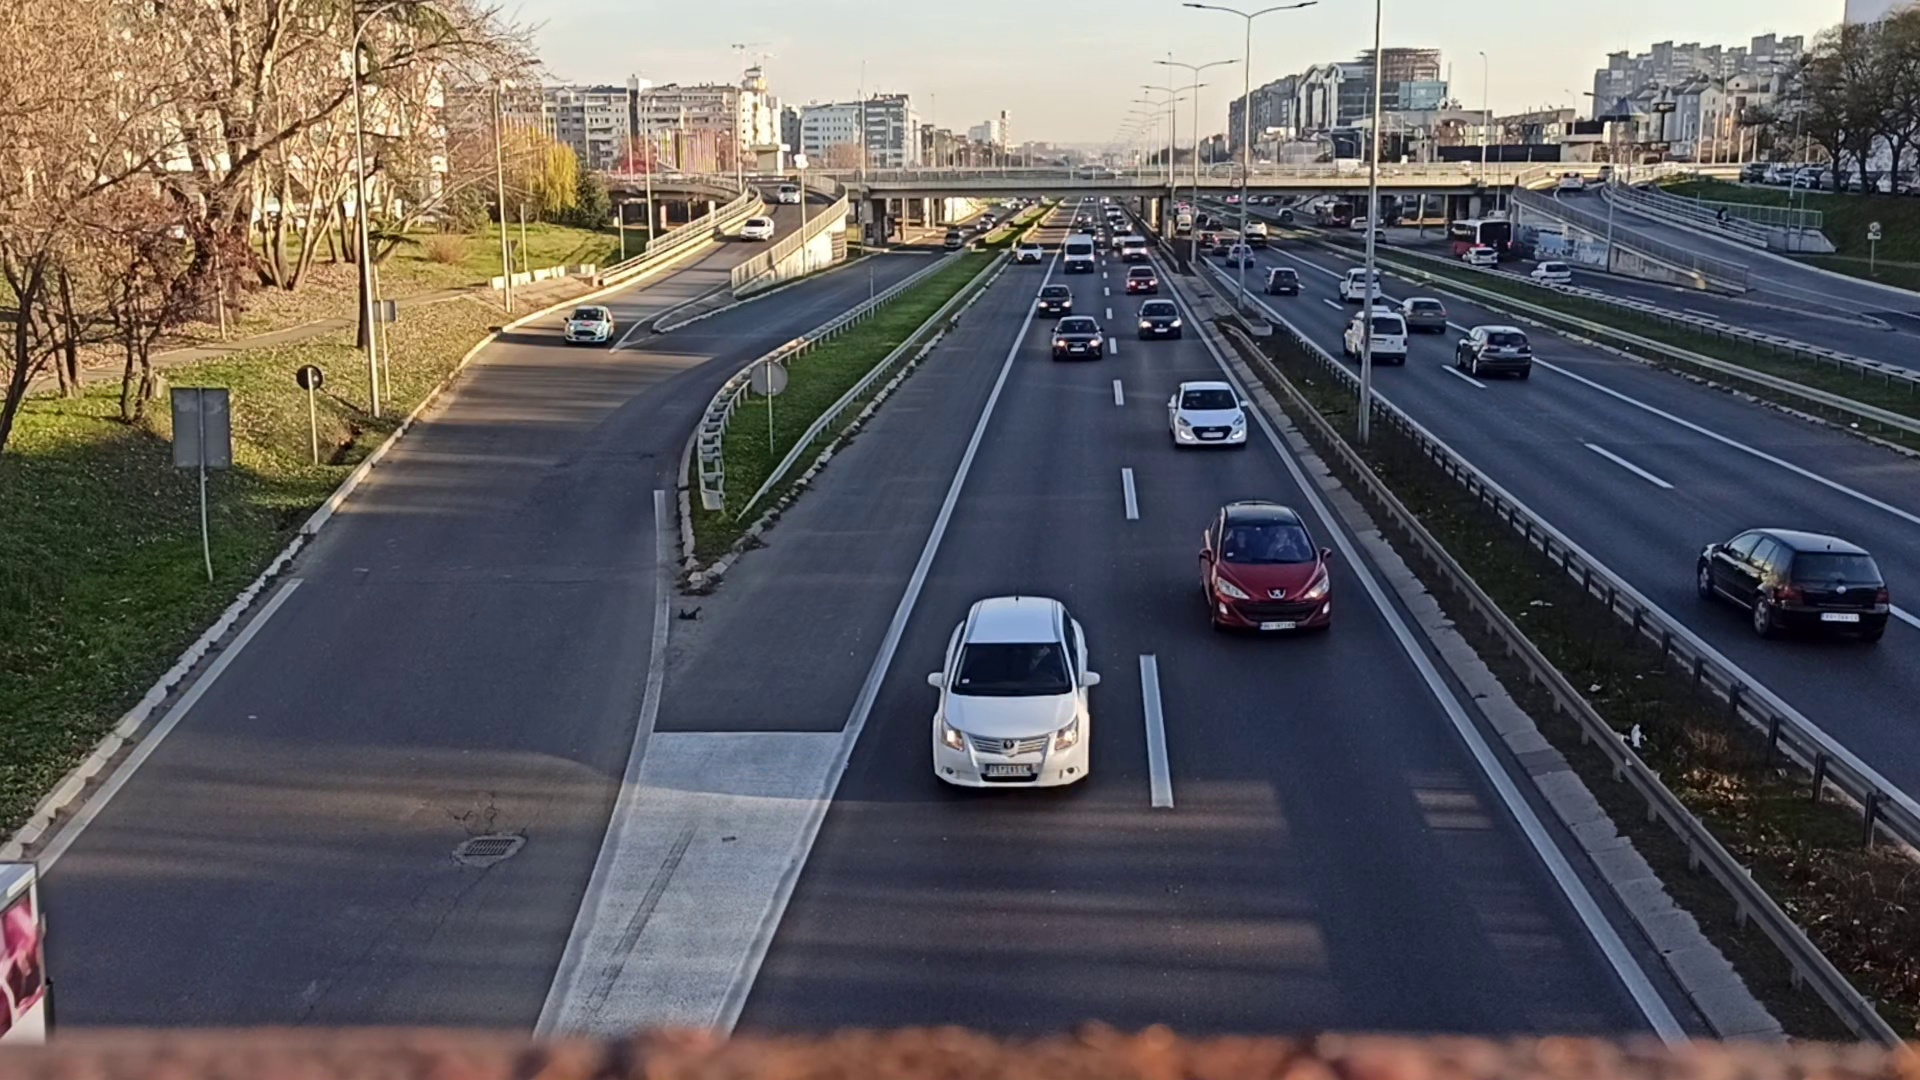car: (920, 597, 1100, 796), (1691, 526, 1890, 649), (1200, 498, 1331, 650), (1164, 381, 1250, 450), (560, 301, 613, 344), (1052, 316, 1105, 359), (1137, 299, 1182, 342)
